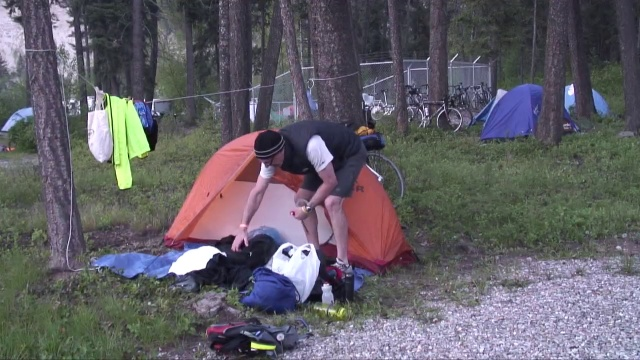person: (235, 123, 402, 278)
